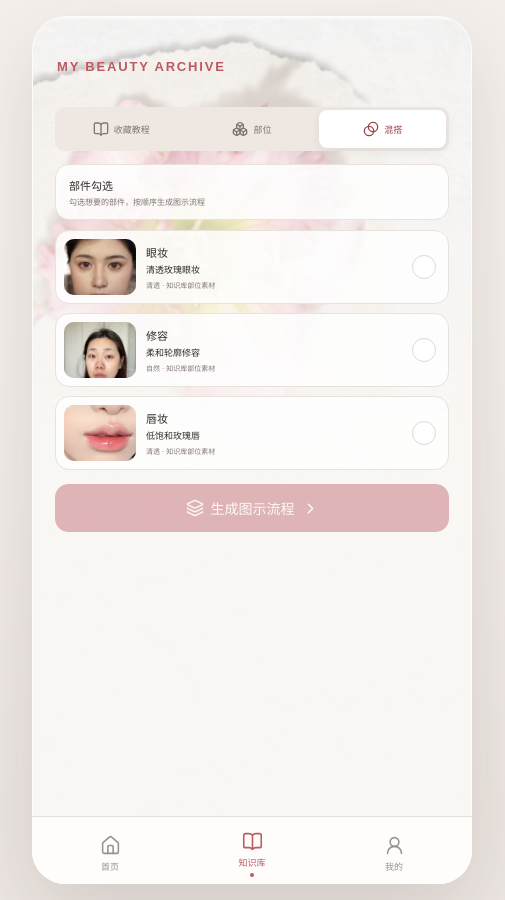
Test case: shows library parts as checkable modules and disables generate until selected
Check: the button with aria-label "勾选修容" is shown, box [55,313,449,387]
Check: the button with aria-label "勾选唇妆" is shown, box [55,396,449,470]
What coordinates should you click on to do the following:
click the button with aria-label "勾选眼妆"
I would click on:
 (100, 267)
Its box is [55,230,449,304].
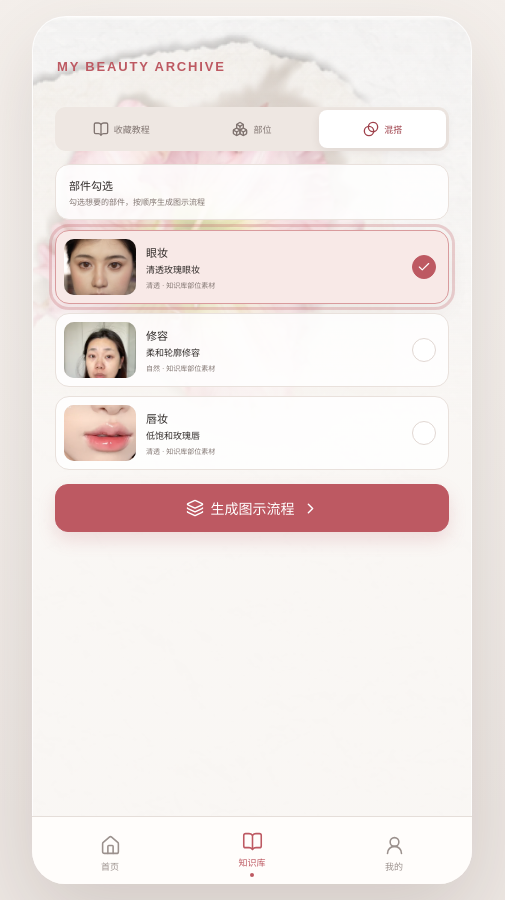
Check: the button "生成图示流程" is enabled, box [55,484,449,532]
